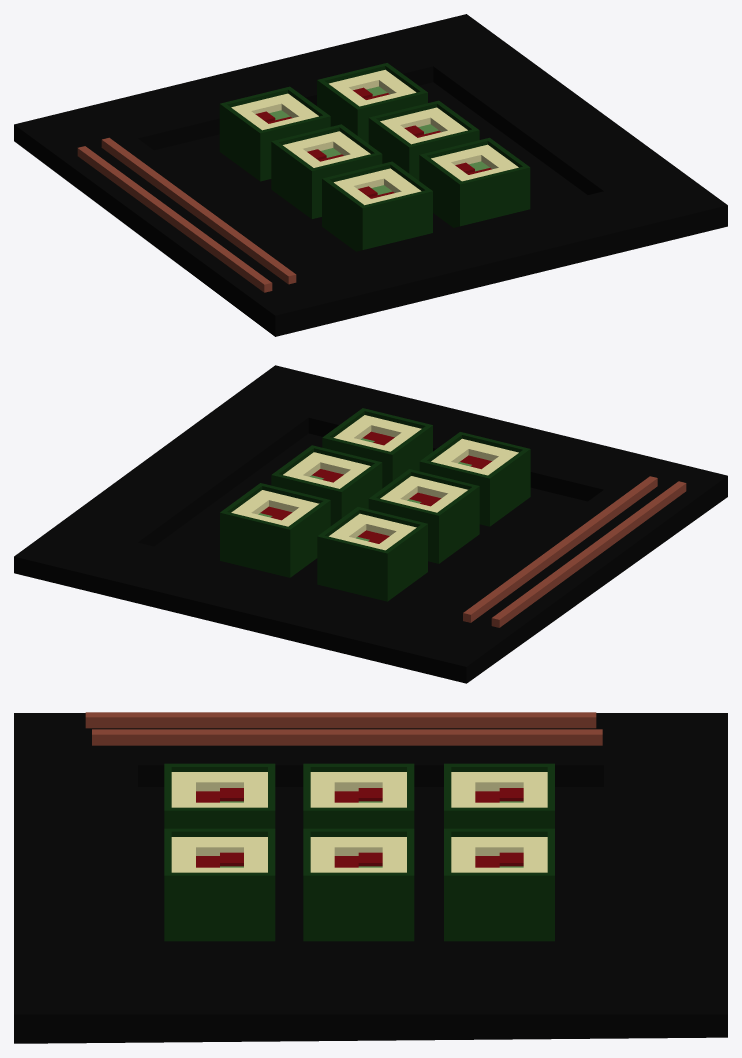
File: Sushi.glb
3 renders of one model, top to bottom at view 1: azimuth 30°, elevation 25°; view 2: azimuth 150°, elevation 25°; view 3: azimuth 270°, elevation 25°, orthographic. The views are drawn at different scales.
Visible parts, largest first — view 1: Plane, Sushi, Sushi.003, Sushi.002, Sushi.001, Sushi.005, Sushi.004, Cube, Cube.001; view 2: Plane, Sushi.002, Sushi.005, Sushi.001, Sushi, Sushi.004, Sushi.003, Cube.001, Cube; view 3: Plane, Sushi.003, Sushi.004, Sushi.005, Cube.001, Cube, Sushi, Sushi.001, Sushi.002.
Part boxes in pixels (x1,y1,x2,y2): Plane: (14,14,727,336); Sushi: (322,161,432,251); Sushi.003: (419,137,530,227); Sushi.002: (219,86,330,181); Sushi.001: (271,124,382,218); Sushi.005: (317,63,427,143); Sushi.004: (368,100,479,180); Cube: (101,137,296,284); Cube.001: (77,146,272,292); Plane: (14,365,727,683); Sushi.002: (317,507,427,601); Sushi.005: (220,483,330,577); Sushi.001: (368,469,479,563); Sushi: (419,432,530,526); Sushi.004: (271,445,382,525); Sushi.003: (322,408,432,488); Cube.001: (491,481,686,627); Cube: (463,476,657,622); Plane: (14,713,727,1043); Sushi.003: (164,828,275,941); Sushi.004: (303,828,414,941); Sushi.005: (444,828,554,941); Cube.001: (85,712,596,728); Cube: (92,729,602,745); Sushi: (164,763,275,828); Sushi.001: (303,763,414,828); Sushi.002: (444,763,554,828).
Size of the model in its own units: 18.84 by 2.13 by 18.84.
